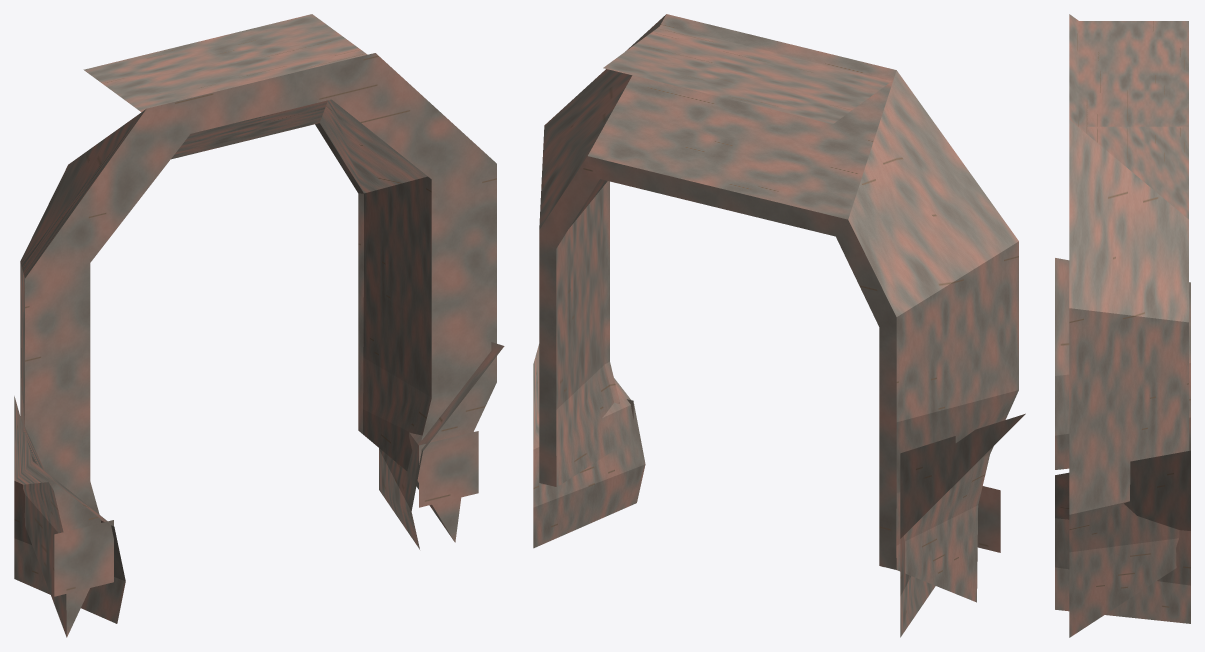
File: destiny_shuttle_rear_liner.obj
The picture shows the model from 3 angles, left to right: view 1: azimuth 30°, elevation 25°; view 2: azimuth 150°, elevation 25°; view 3: azimuth 270°, elevation 25°; orthographic projection. The views are drawn at different scales.
Parts seen in each view (by area): view 1: Recessed_original_hatch_bulkhead_liner; view 2: Recessed_original_hatch_bulkhead_liner; view 3: Recessed_original_hatch_bulkhead_liner.
Boxes of the visible parts, left/top/right/bottom form: Recessed_original_hatch_bulkhead_liner: left=14, top=14, right=504, bottom=637; Recessed_original_hatch_bulkhead_liner: left=533, top=14, right=1025, bottom=637; Recessed_original_hatch_bulkhead_liner: left=1055, top=14, right=1190, bottom=637.
Size of the model in its own units: 3.96 by 4.09 by 1.05.
